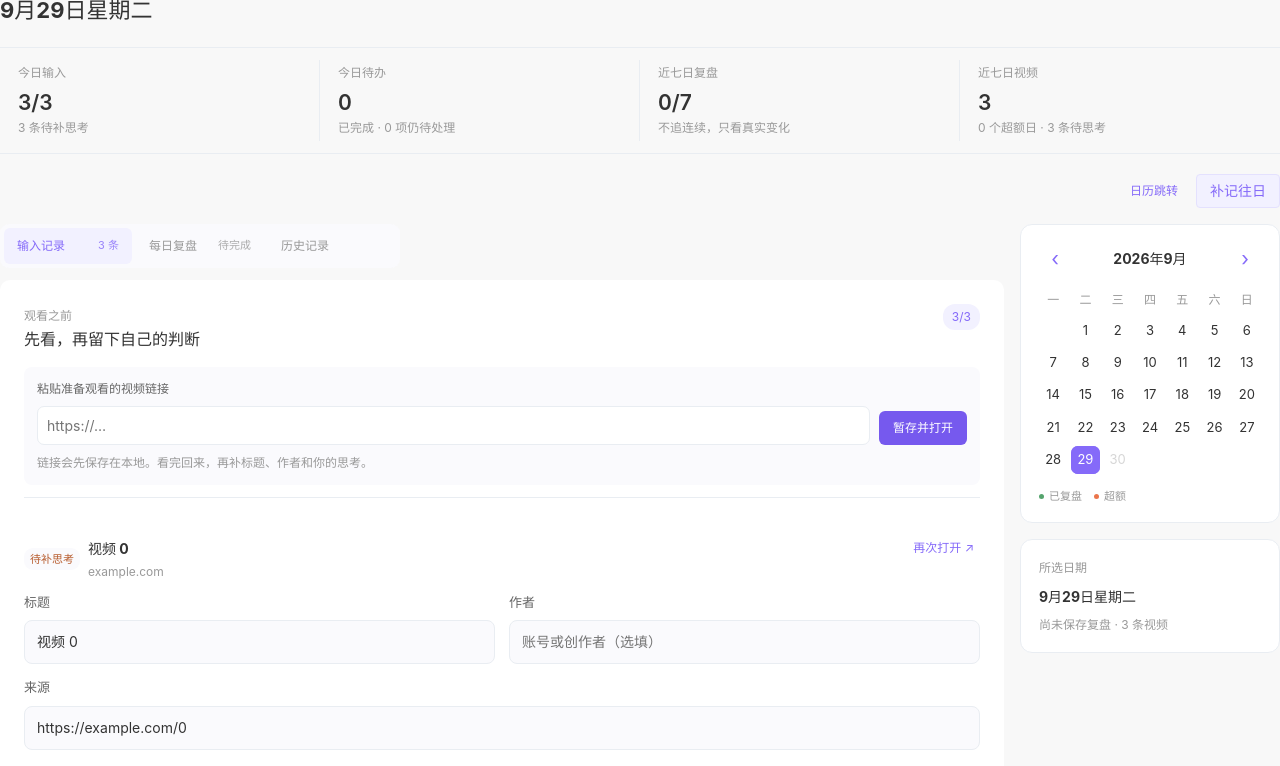
FlowView › warns at the quota and treats saving an empty review as completion
Type "https://example.com/4" into the field labelled "粘贴准备观看的视频链接". click: (454, 425)
box: [37,406,870,444]
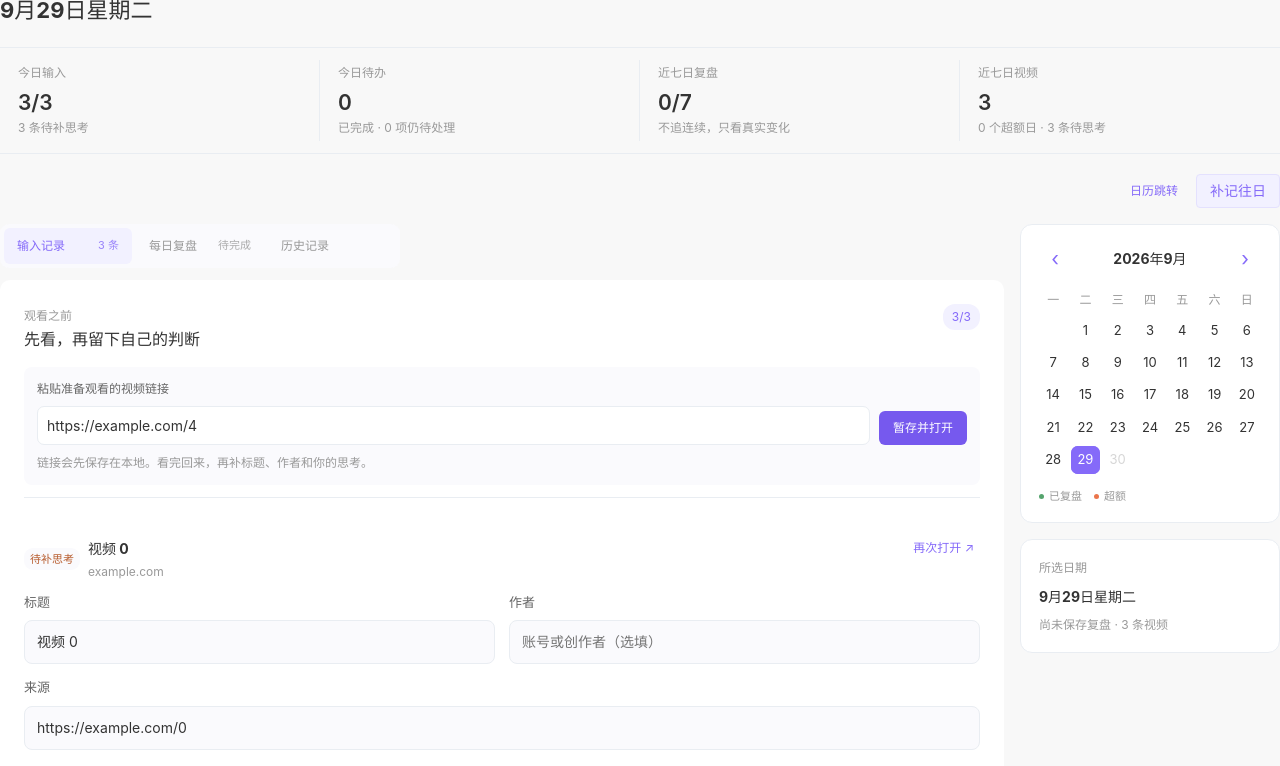
Click the button "暂存并打开". click: (923, 428)
box: [879,410,967,444]
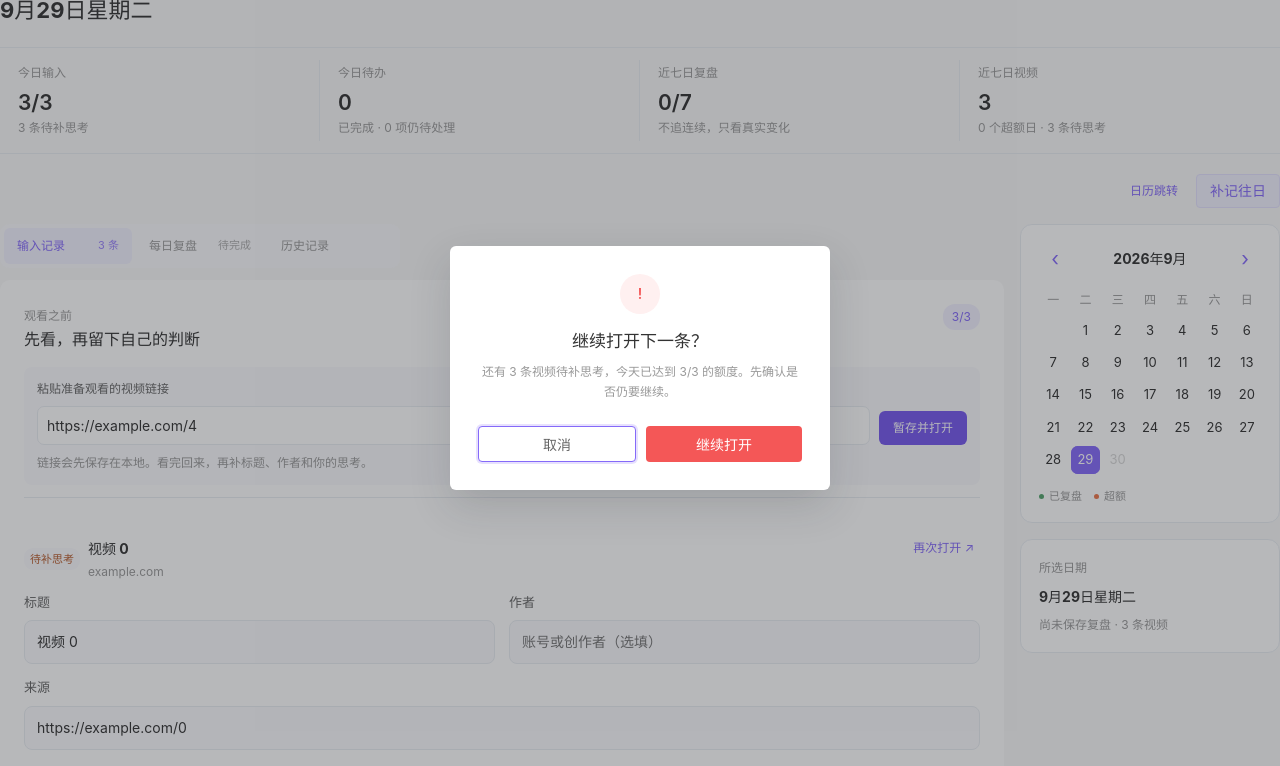
Expected: the dialog with class "flow-confirm-dialog" shows "今天已达到 3/3", [482,364,798,399]
Click the button with class "delete-button". click: (724, 444)
box: [646,426,802,462]
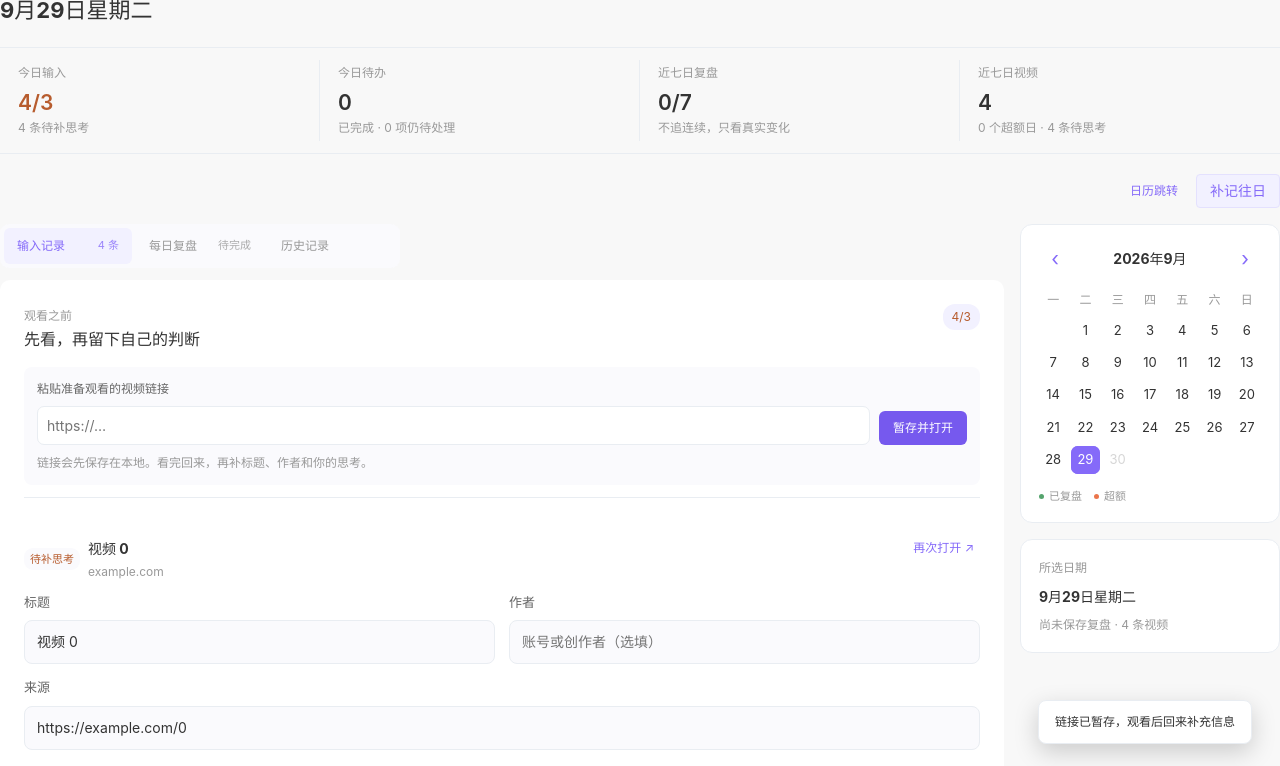
Click the tab "每日复盘 待完成". click: (200, 246)
box: [136,228,264,264]
(page scrolled)
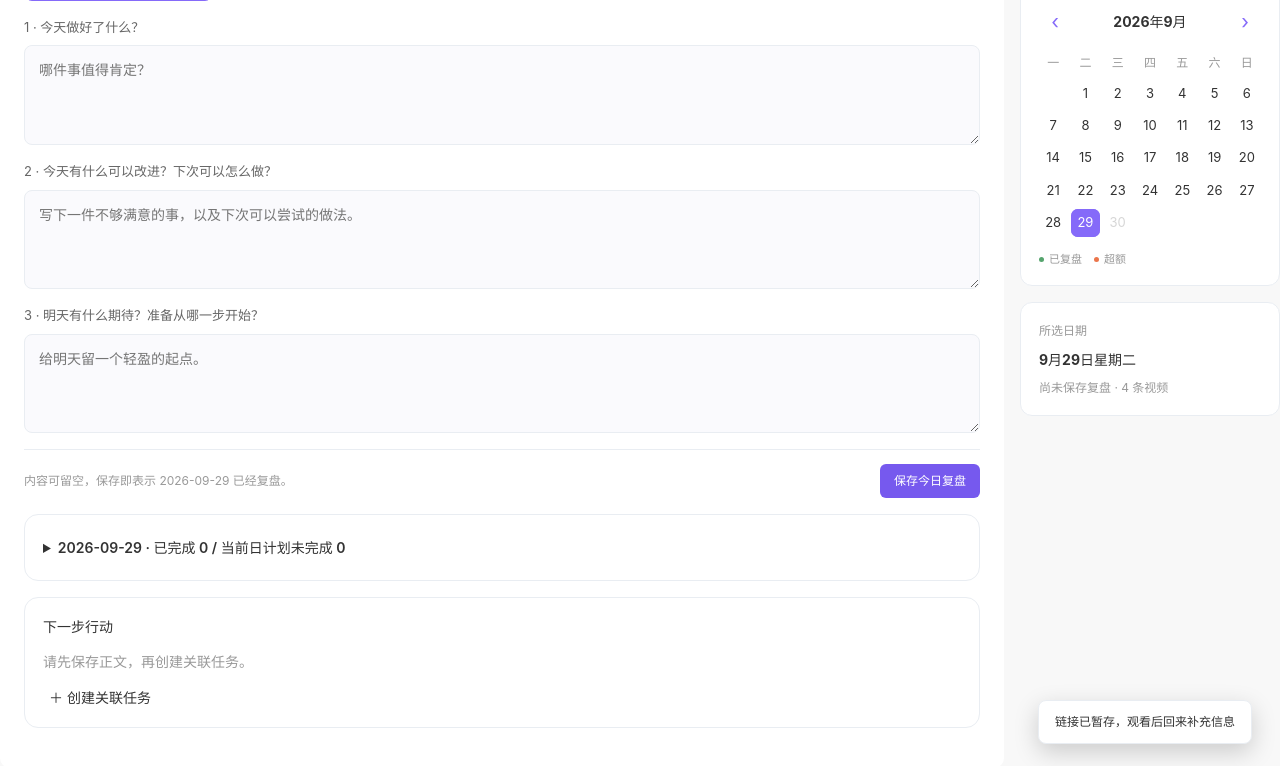
Click the button "保存今日复盘". click: (930, 481)
box: [880,464,980,498]
(page scrolled)
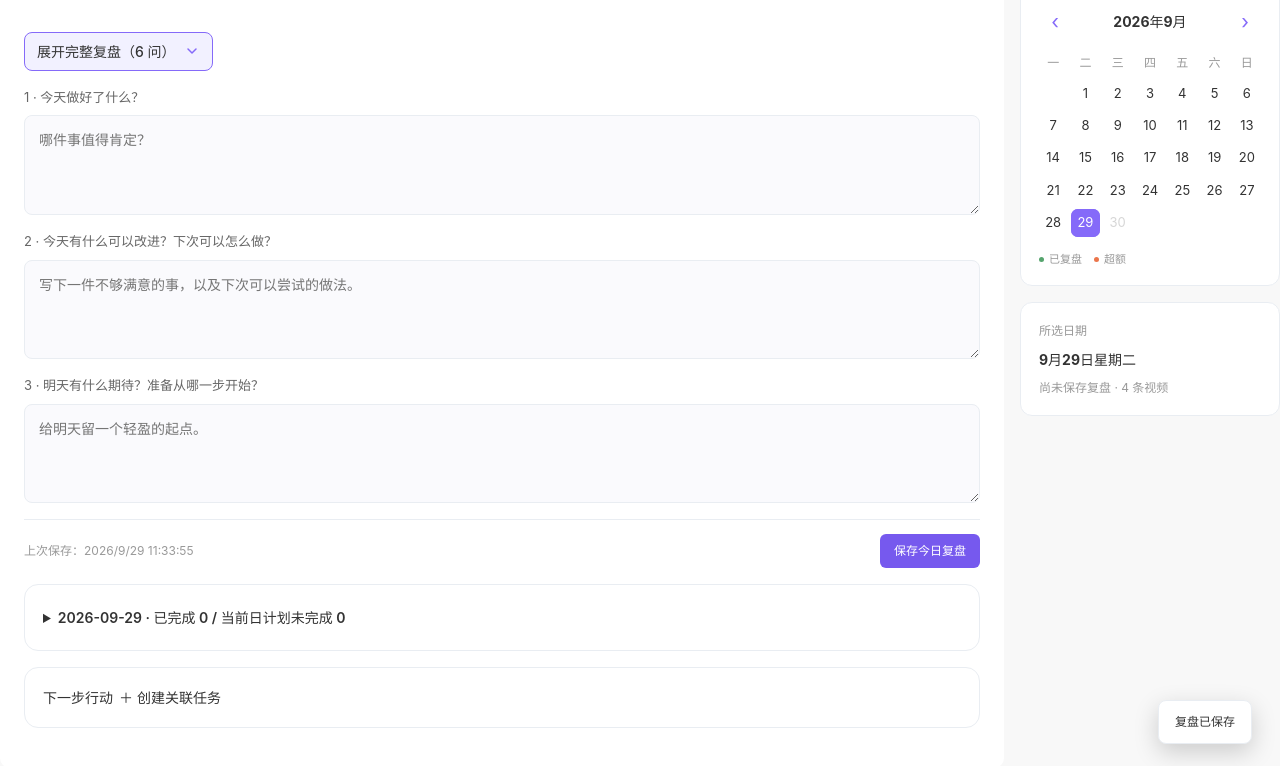
Expected: the text "已保存" is shown, [1158,700,1252,744]
